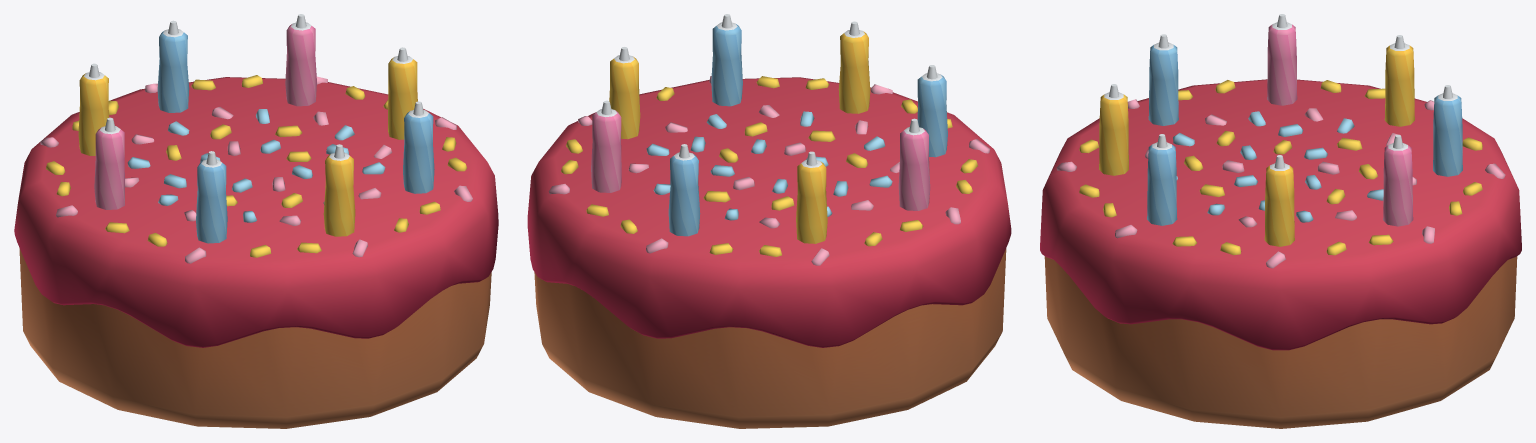
File: cake_birthday.obj
The picture shows the model from 3 angles, left to right: view 1: azimuth 30°, elevation 25°; view 2: azimuth 150°, elevation 25°; view 3: azimuth 270°, elevation 25°; orthographic projection.
Visible parts, largest first — view 1: cake_birthday; view 2: cake_birthday; view 3: cake_birthday.
Part boxes in pixels (x1,y1,x2,y2): cake_birthday: [14, 14, 498, 428]; cake_birthday: [527, 14, 1011, 428]; cake_birthday: [1040, 14, 1521, 428].
Bounding box in the file's own units: 1.22 × 0.7096 × 1.22.
1 material, 1 textured.
